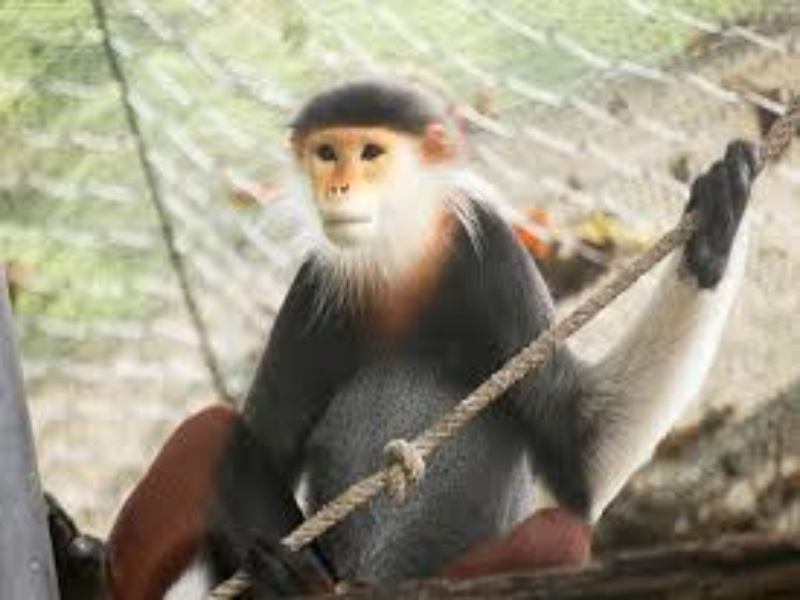monkey: (46, 75, 767, 588)
